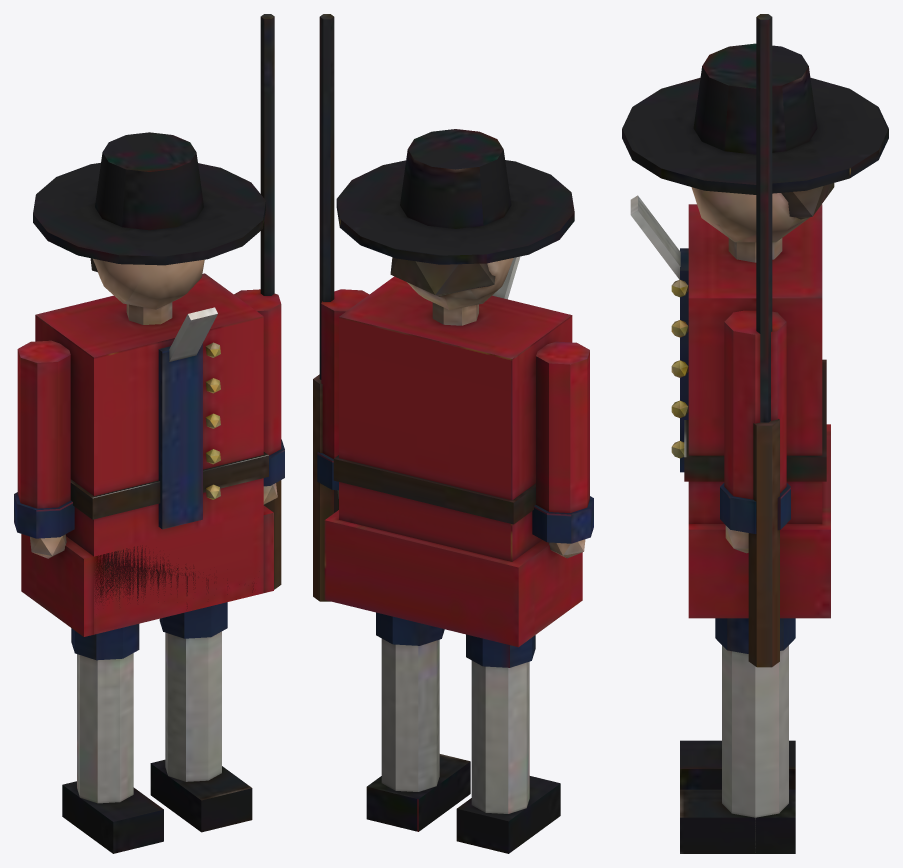
The model's file is soldado_rey.glb.
3 renders of one model, left to right at view 1: azimuth 30°, elevation 25°; view 2: azimuth 150°, elevation 25°; view 3: azimuth 270°, elevation 25°, orthographic. The views are drawn at different scales.
Visible parts, largest first — view 1: soldado_rey; view 2: soldado_rey; view 3: soldado_rey.
Part boxes in pixels (x1,y1,x2,y2): soldado_rey: (14, 14, 284, 853); soldado_rey: (313, 14, 593, 853); soldado_rey: (622, 14, 888, 853).
Size of the model in its own units: 0.7803 by 2.15 by 0.6.
Materials: 1 (1 with a texture image).
